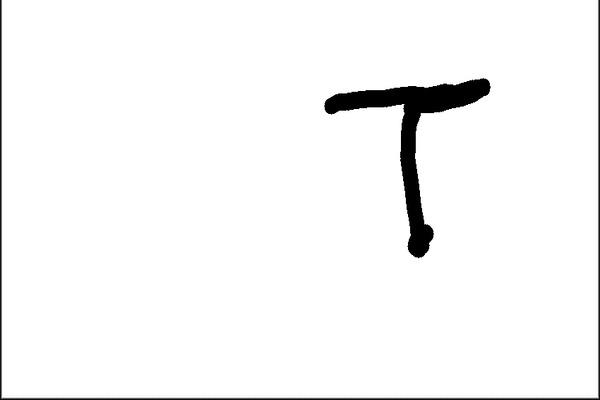T: (312, 68, 499, 264)
